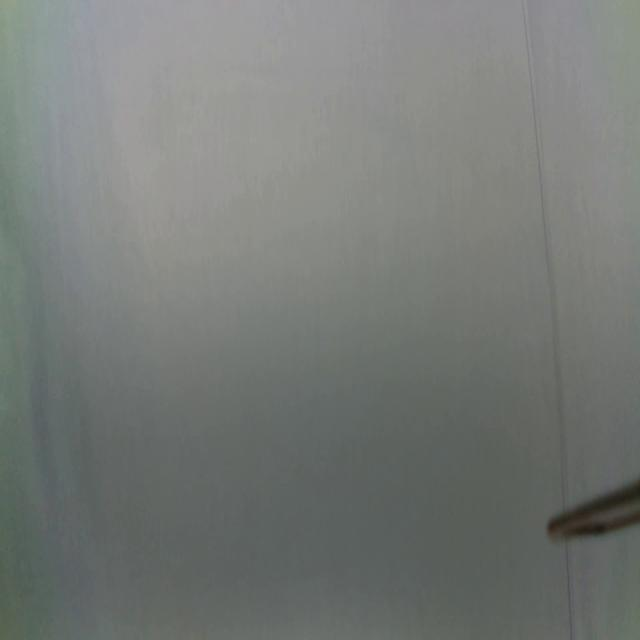crease: (520, 1, 568, 503), (565, 538, 575, 640)
